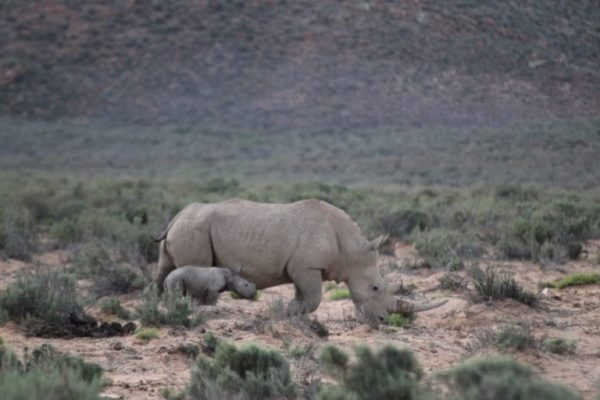rhino: (154, 197, 450, 330), (161, 264, 257, 318)
